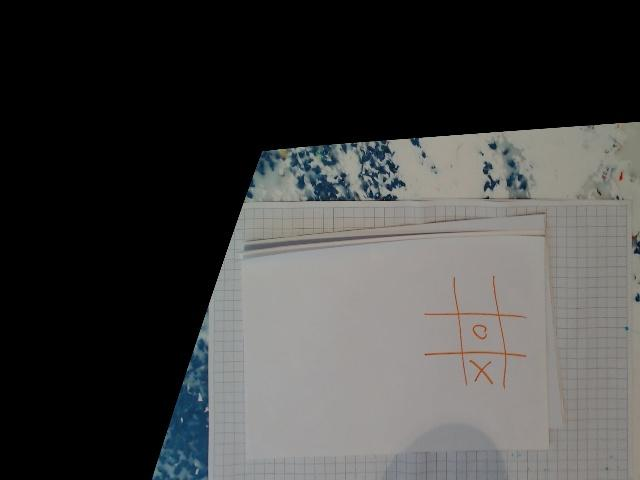O: (466, 324, 491, 346)
X: (465, 361, 495, 391)
grid: (416, 276, 536, 394)
